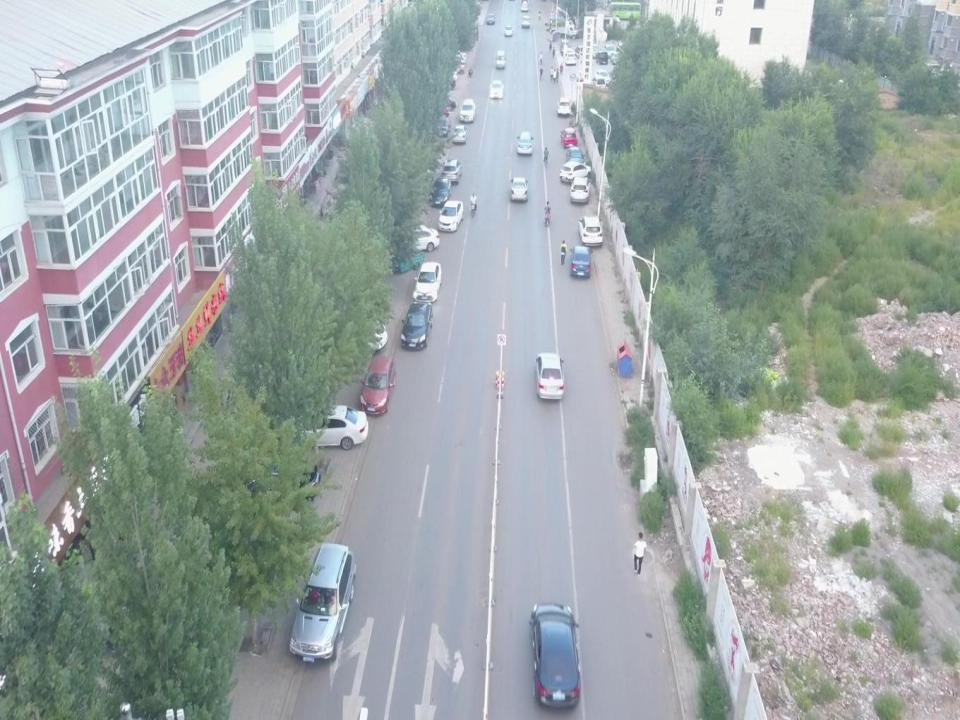bus: (608, 2, 640, 22)
car: (289, 540, 356, 664), (532, 602, 582, 708), (239, 455, 323, 507), (282, 404, 368, 451), (360, 355, 395, 414), (330, 319, 387, 351), (400, 299, 434, 351), (534, 354, 566, 400), (390, 225, 439, 249), (416, 263, 442, 305), (439, 202, 464, 232), (571, 246, 594, 278), (580, 216, 603, 248), (559, 161, 590, 183), (570, 177, 593, 205), (430, 179, 451, 205), (442, 159, 463, 185), (510, 178, 528, 203), (431, 92, 456, 109), (516, 132, 534, 155), (460, 97, 475, 124), (567, 146, 585, 168), (432, 74, 456, 90), (432, 120, 450, 141), (556, 95, 573, 117), (560, 128, 576, 150), (440, 61, 465, 74), (446, 48, 466, 63), (453, 125, 467, 144), (490, 80, 502, 101), (496, 48, 506, 72), (595, 70, 609, 84), (574, 45, 586, 61), (610, 51, 622, 65), (560, 40, 570, 56), (564, 53, 576, 66), (596, 51, 607, 65), (605, 44, 615, 58), (521, 16, 531, 29), (487, 14, 496, 26), (592, 44, 600, 57), (504, 26, 512, 38), (521, 1, 529, 10)
truck: (551, 22, 579, 38)
van: (592, 74, 606, 90)
